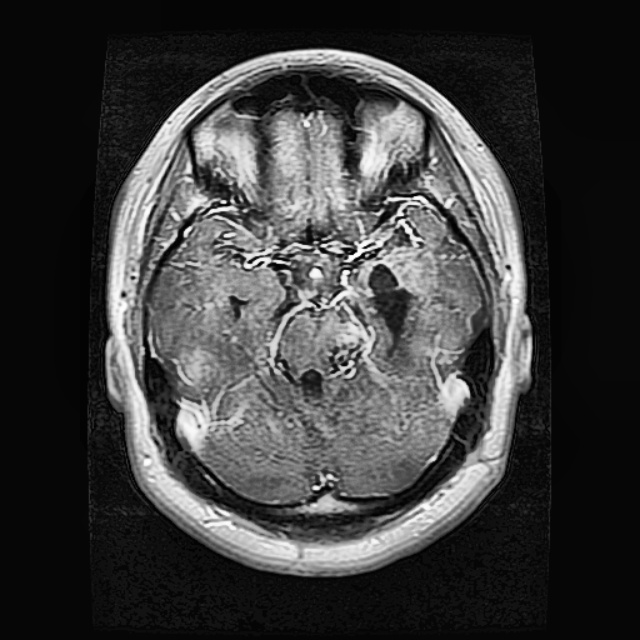Meningioma: (317, 254, 417, 377)
